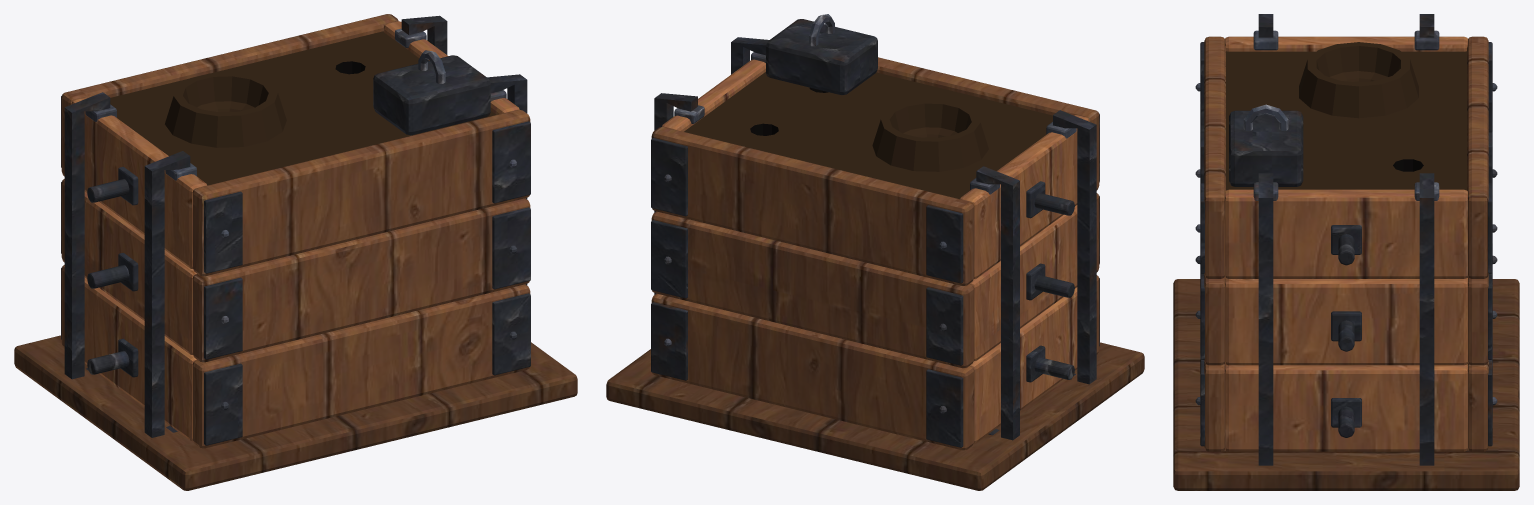
The model's file is cf_flask_stack.glb.
3 renders of one model, left to right at view 1: azimuth 30°, elevation 25°; view 2: azimuth 150°, elevation 25°; view 3: azimuth 270°, elevation 25°, orthographic. The views are drawn at different scales.
Parts seen in each view (by area): view 1: model; view 2: model; view 3: model.
Boxes of the visible parts, bbox=[...] form: model: bbox=[14, 14, 577, 490]; model: bbox=[606, 14, 1144, 490]; model: bbox=[1173, 14, 1519, 490].
Size of the model in its own units: 0.77 by 0.604 by 0.56.
Materials: 7 (5 with a texture image).
